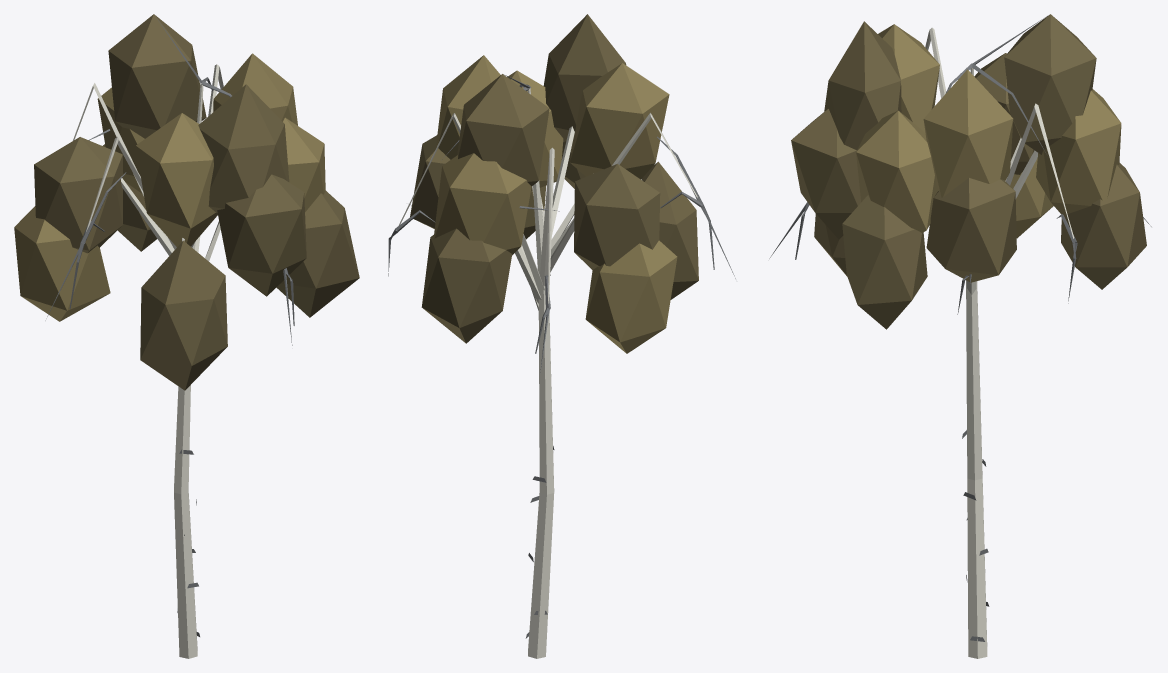
Rendered from birch_winter_03.glb.
3 renders of one model, left to right at view 1: azimuth 30°, elevation 25°; view 2: azimuth 150°, elevation 25°; view 3: azimuth 270°, elevation 25°, orthographic. The views are drawn at different scales.
Parts seen in each view (by area): view 1: Birch_winter_03; view 2: Birch_winter_03; view 3: Birch_winter_03.
Boxes of the visible parts, left/top/right/bottom form: Birch_winter_03: left=14, top=14, right=359, bottom=658; Birch_winter_03: left=388, top=14, right=735, bottom=658; Birch_winter_03: left=769, top=14, right=1151, bottom=658.
Bounding box in the file's own units: 8.5 × 16.03 × 8.75.
